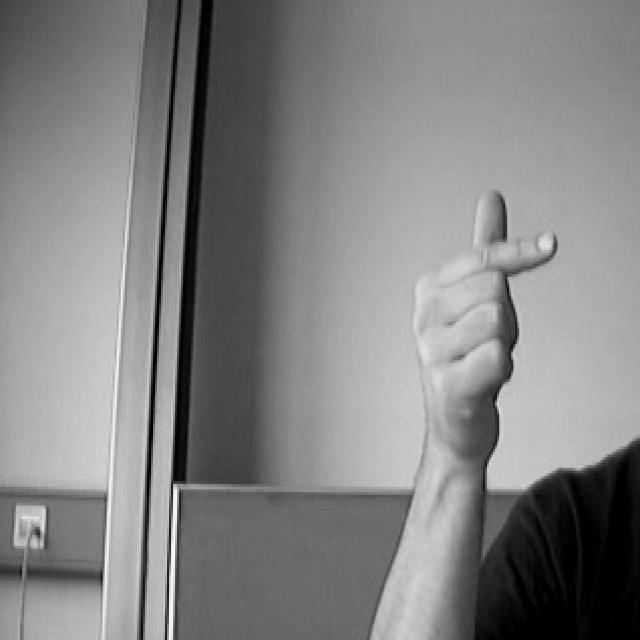T: (389, 177, 573, 461)
